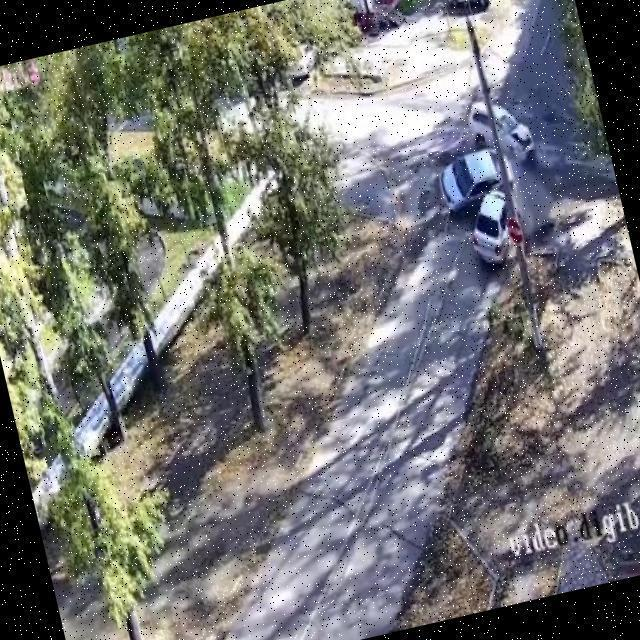accident: (456, 145, 527, 239)
